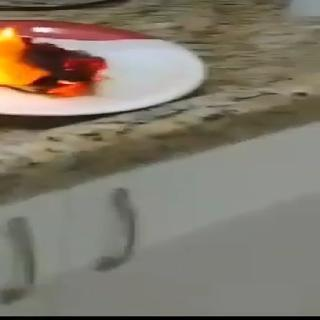fire: (0, 0, 108, 97)
